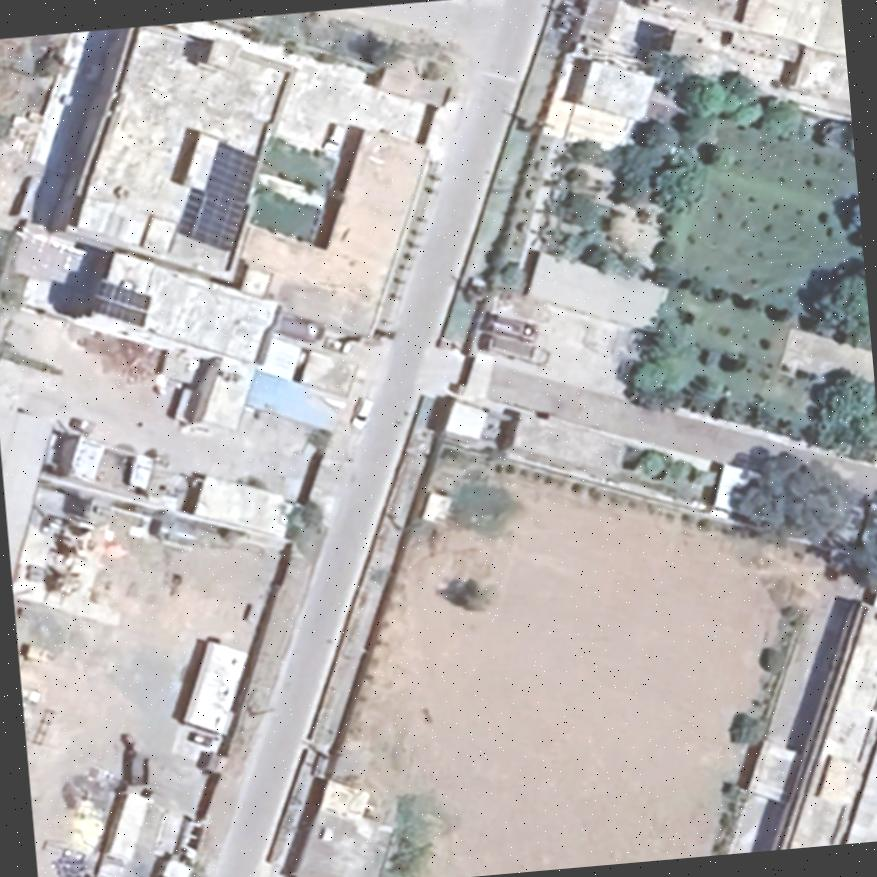Solarpanel: (170, 130, 258, 254), (88, 277, 152, 327)
